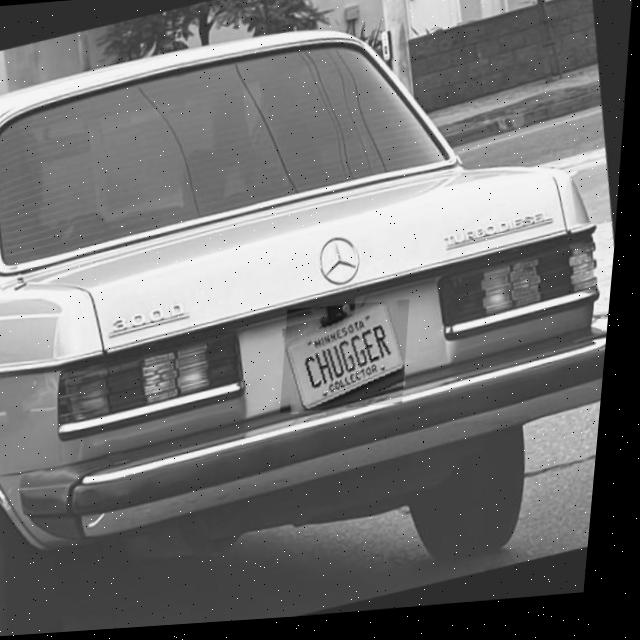LicensePlate: (291, 307, 412, 416)
